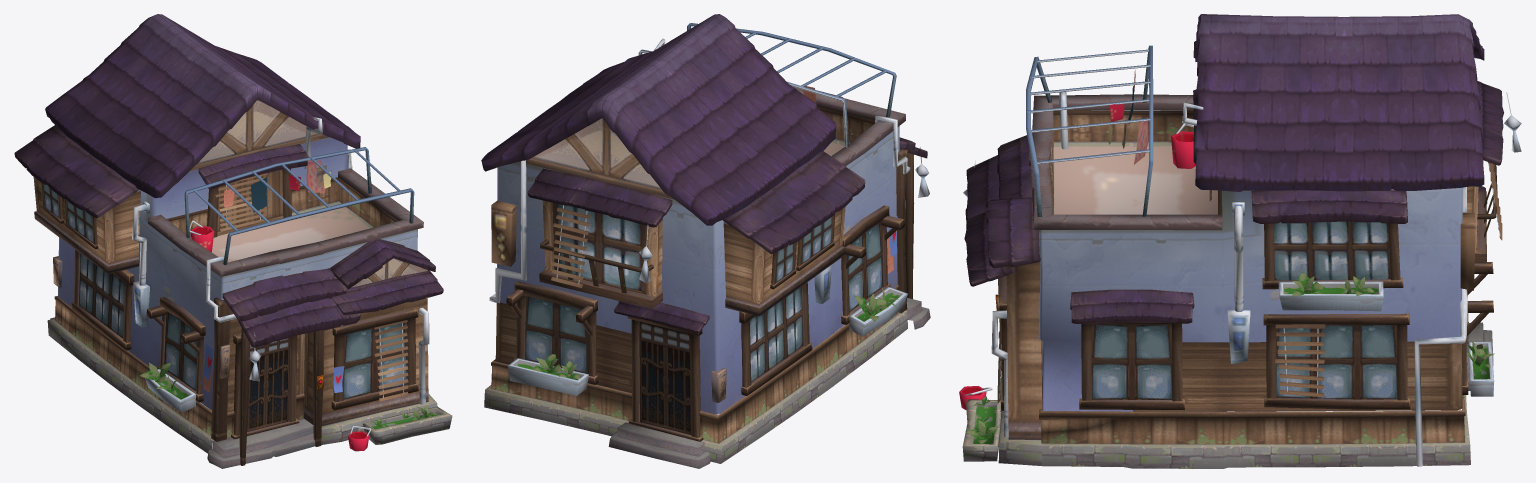
File: hbxz_jz002_01.FBX
3 views of the same model, side by side, from view 1: azimuth 30°, elevation 25°; view 2: azimuth 150°, elevation 25°; view 3: azimuth 270°, elevation 25° (orthographic). The views are drawn at different scales.
Parts seen in each view (by area): view 1: hbxz_jz002_01; view 2: hbxz_jz002_01; view 3: hbxz_jz002_01.
Boxes of the visible parts, x1,y1,x2,y2 form: hbxz_jz002_01: [14, 14, 452, 468]; hbxz_jz002_01: [481, 14, 930, 468]; hbxz_jz002_01: [959, 14, 1521, 468].
Bounding box in the file's own units: 486 × 509 × 675.
3 materials, 3 textured.
